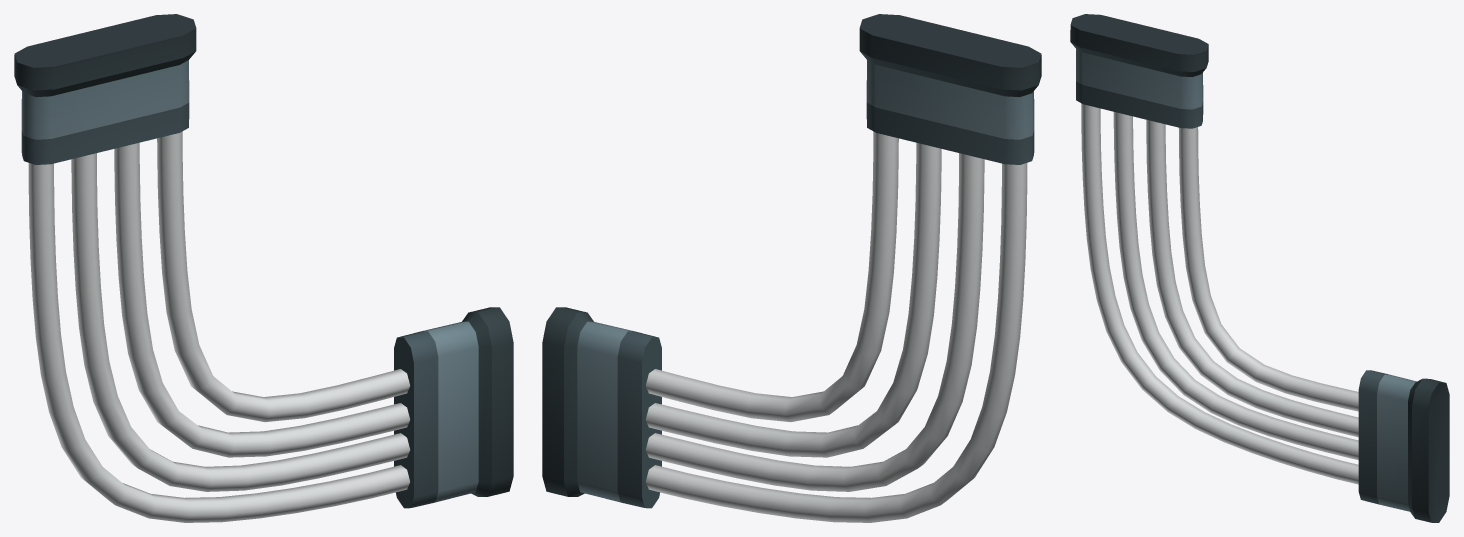
File: Cable_type_B_002.glb
3 renders of one model, left to right at view 1: azimuth 30°, elevation 25°; view 2: azimuth 150°, elevation 25°; view 3: azimuth 330°, elevation 25°, orthographic. The views are drawn at different scales.
Visible parts, largest first — view 1: Cable_type_B_002; view 2: Cable_type_B_002; view 3: Cable_type_B_002.
Part boxes in pixels (box(x1,y1,x2,y2)): Cable_type_B_002: box(14, 14, 513, 522); Cable_type_B_002: box(542, 14, 1041, 522); Cable_type_B_002: box(1070, 14, 1449, 522).
Bounding box in the file's own units: 0.7881 × 0.8538 × 0.0783.
1 material, 1 textured.
